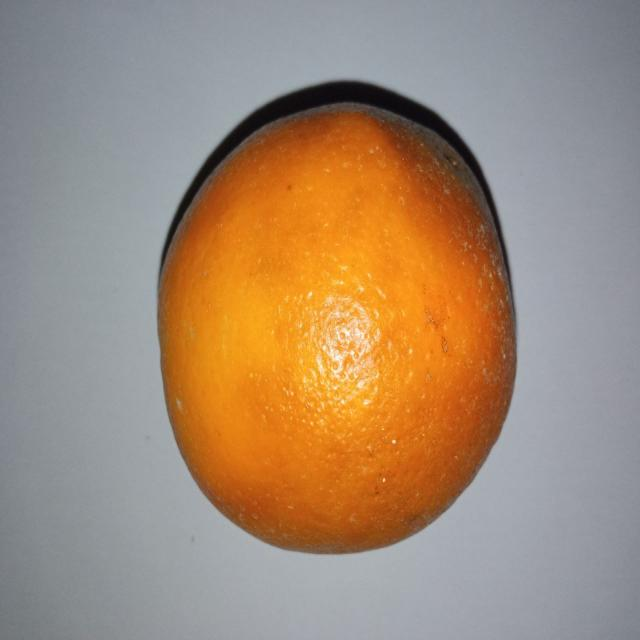rotten_orange: (156, 100, 514, 557)
